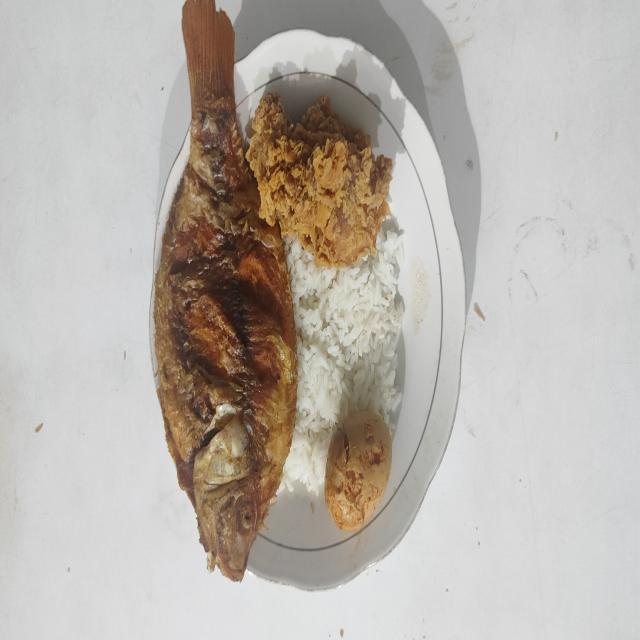ikan_mujair: (154, 0, 297, 581)
nasi_putih: (278, 215, 405, 496)
